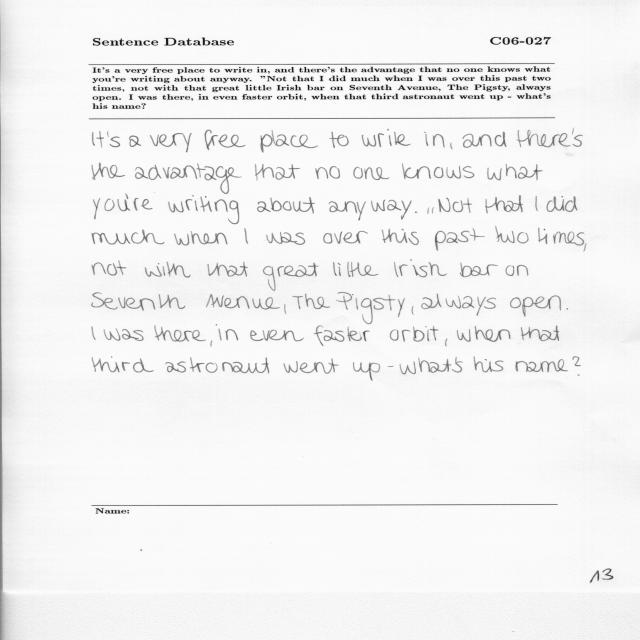word: (135, 163, 242, 194), (336, 292, 405, 324), (168, 196, 239, 225), (329, 200, 417, 221), (92, 292, 186, 311), (165, 357, 269, 374), (421, 293, 496, 316), (263, 263, 319, 291), (261, 130, 318, 153), (206, 294, 280, 310), (314, 325, 369, 346), (402, 163, 474, 179), (435, 228, 485, 251), (510, 295, 561, 317), (92, 230, 165, 245), (92, 357, 154, 373), (257, 197, 315, 214), (488, 164, 543, 181), (517, 130, 571, 147), (394, 260, 447, 277), (94, 194, 130, 219), (283, 358, 339, 374), (154, 325, 206, 342), (362, 129, 411, 147), (457, 326, 511, 342), (205, 130, 246, 151), (538, 228, 584, 246), (150, 133, 192, 152), (174, 231, 227, 246), (390, 326, 438, 342), (255, 164, 300, 181), (485, 195, 523, 214), (145, 262, 190, 278), (418, 357, 463, 373), (463, 132, 507, 148), (516, 359, 569, 372), (333, 262, 378, 277), (207, 262, 248, 277), (250, 330, 304, 341), (382, 229, 419, 245), (323, 231, 368, 244), (460, 263, 498, 278), (292, 294, 330, 309), (521, 326, 559, 341), (92, 163, 125, 180), (496, 227, 529, 244), (92, 260, 126, 276), (103, 328, 144, 341), (353, 362, 380, 381), (438, 198, 472, 213), (267, 232, 306, 245), (547, 196, 578, 212), (353, 167, 390, 180), (474, 357, 504, 373), (216, 325, 238, 340), (315, 166, 340, 179), (329, 132, 349, 148), (424, 132, 444, 147), (506, 265, 529, 276), (134, 198, 153, 211), (572, 128, 583, 147), (107, 131, 120, 147), (400, 362, 416, 375), (92, 131, 104, 148), (572, 356, 581, 376), (129, 135, 141, 147), (244, 228, 248, 244), (92, 327, 96, 340), (535, 196, 538, 211), (583, 244, 587, 252), (284, 304, 287, 314), (450, 143, 453, 150), (412, 306, 414, 315), (445, 339, 447, 347), (432, 207, 434, 214), (211, 341, 213, 347), (428, 208, 429, 214), (388, 366, 394, 367), (566, 308, 568, 310)
